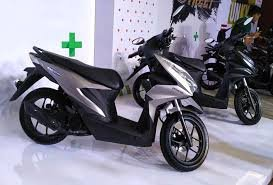motor: (21, 32, 210, 177), (177, 28, 262, 125)
